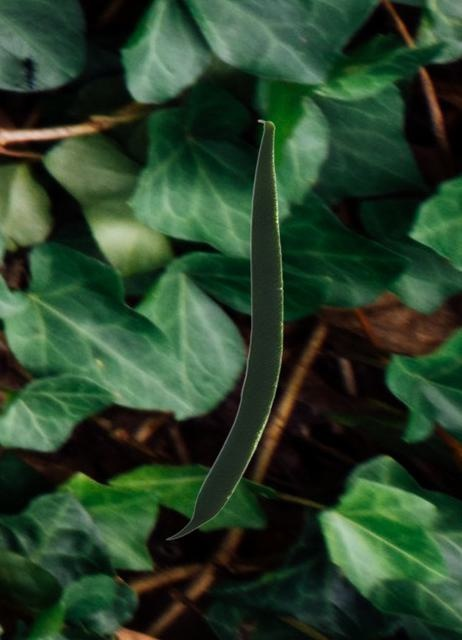french_bean: (165, 119, 282, 539)
